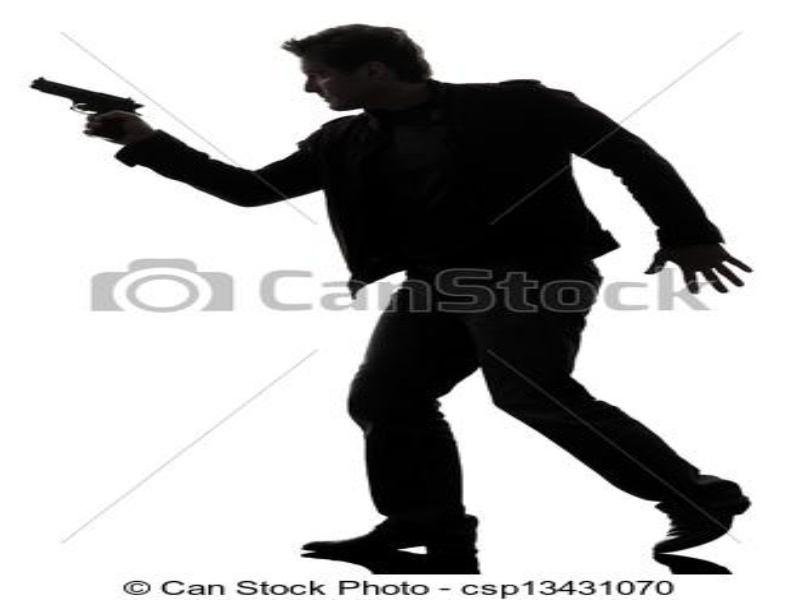gun: (24, 67, 143, 163)
